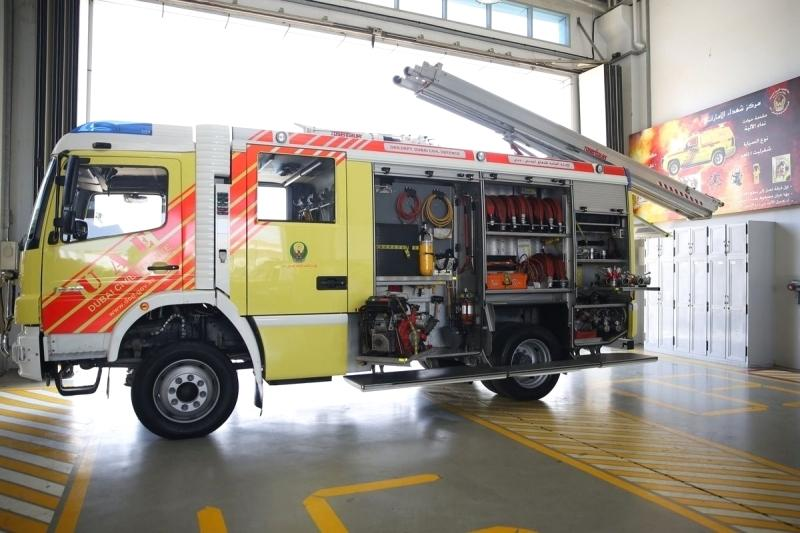firetruck_off: (0, 120, 658, 440)
